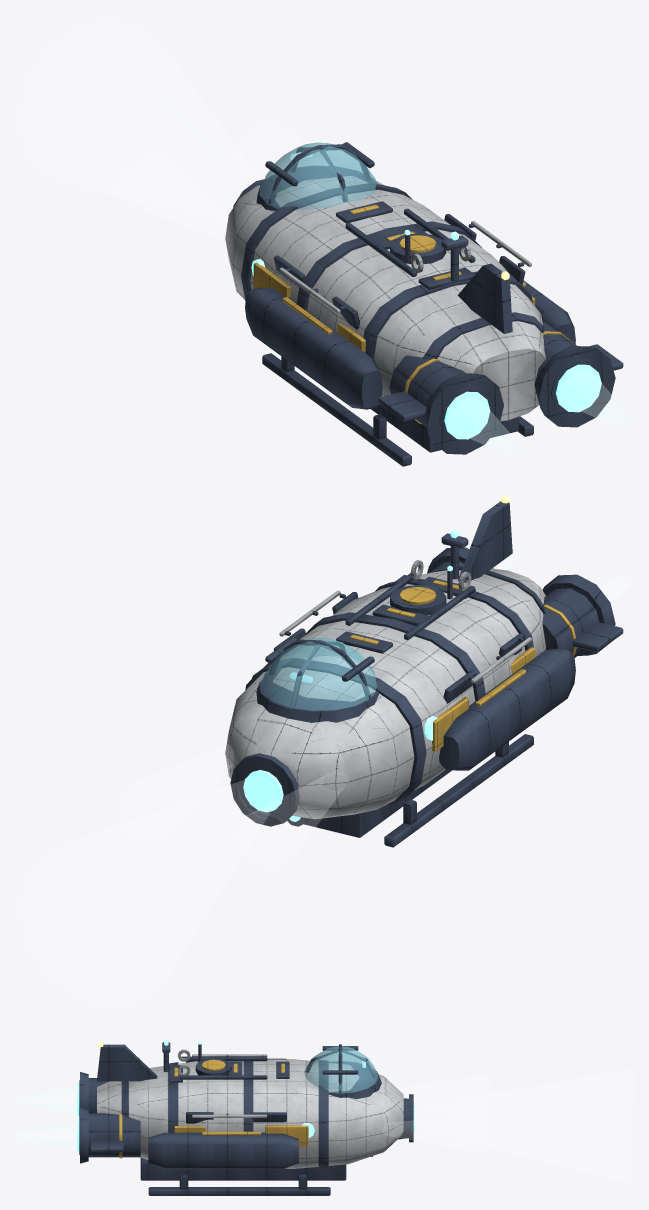
3 renders of one model, top to bottom at view 1: azimuth 30°, elevation 25°; view 2: azimuth 150°, elevation 25°; view 3: azimuth 270°, elevation 25°, orthographic. The views are drawn at different scales.
Parts seen in each view (by area): view 1: DL001_ScoutSub_graphite_navy, DL001_ScoutSub_hull_offwhite, DL001_ScoutSub_fx_beam_cyan, DL001_ScoutSub_glass_cyan, DL001_ScoutSub_emissive_cyan, DL001_ScoutSub_amber_accent, DL001_ScoutSub_fx_halo_cyan, DL001_ScoutSub_titanium_t; view 2: DL001_ScoutSub_graphite_navy, DL001_ScoutSub_hull_offwhite, DL001_ScoutSub_fx_beam_cyan, DL001_ScoutSub_glass_cyan, DL001_ScoutSub_amber_accent, DL001_ScoutSub_emissive_cyan, DL001_ScoutSub_titanium_t, DL001_ScoutSub_fx_halo_cyan; view 3: DL001_ScoutSub_graphite_navy, DL001_ScoutSub_fx_beam_cyan, DL001_ScoutSub_hull_offwhite, DL001_ScoutSub_glass_cyan, DL001_ScoutSub_fx_halo_cyan, DL001_ScoutSub_amber_accent, DL001_ScoutSub_titanium_t, DL001_ScoutSub_emissive_cyan.
Part boxes in pixels (box(x1,y1,x2,y2)): DL001_ScoutSub_graphite_navy: box(233, 142, 623, 466); DL001_ScoutSub_hull_offwhite: box(225, 176, 546, 421); DL001_ScoutSub_fx_beam_cyan: box(79, 49, 302, 239); DL001_ScoutSub_glass_cyan: box(262, 142, 376, 209); DL001_ScoutSub_emissive_cyan: box(251, 152, 601, 439); DL001_ScoutSub_amber_accent: box(253, 204, 573, 423); DL001_ScoutSub_fx_halo_cyan: box(463, 375, 632, 456); DL001_ScoutSub_titanium_t: box(279, 221, 531, 313); DL001_ScoutSub_graphite_navy: box(230, 501, 623, 847); DL001_ScoutSub_hull_offwhite: box(225, 568, 546, 819); DL001_ScoutSub_fx_beam_cyan: box(52, 745, 343, 977); DL001_ScoutSub_glass_cyan: box(262, 638, 376, 710); DL001_ScoutSub_amber_accent: box(350, 580, 576, 751); DL001_ScoutSub_emissive_cyan: box(243, 529, 458, 821); DL001_ScoutSub_titanium_t: box(279, 560, 531, 683); DL001_ScoutSub_fx_halo_cyan: box(494, 544, 632, 606); DL001_ScoutSub_graphite_navy: box(79, 1042, 413, 1195); DL001_ScoutSub_fx_beam_cyan: box(388, 1069, 633, 1183); DL001_ScoutSub_hull_offwhite: box(97, 1059, 403, 1168); DL001_ScoutSub_glass_cyan: box(304, 1046, 377, 1093); DL001_ScoutSub_fx_halo_cyan: box(14, 1087, 76, 1148); DL001_ScoutSub_amber_accent: box(119, 1059, 308, 1158); DL001_ScoutSub_titanium_t: box(177, 1049, 267, 1117); DL001_ScoutSub_emissive_cyan: box(76, 1040, 414, 1151).
Bounding box in the file's own units: 4.28 × 3.85 × 15.69.
9 materials, 4 textured.
